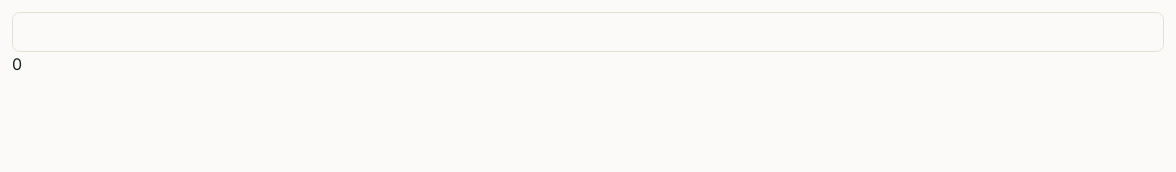
Test: NumberField › clears back to empty, not 0
Type "5" into the field named "field" at (588, 32), box [12,12,1164,52]
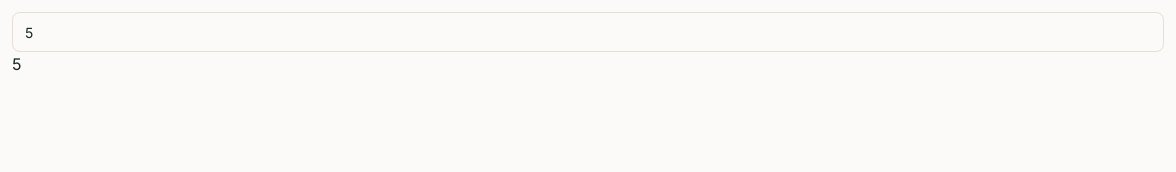
Clear the field named "field" at (588, 32), box [12,12,1164,52]
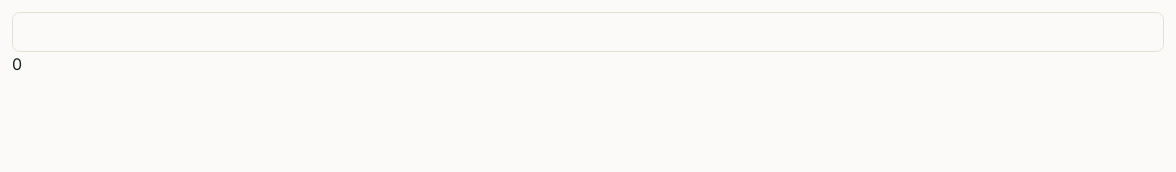
Expected: the text with test id "out" reads "0", [12,54,22,74]
